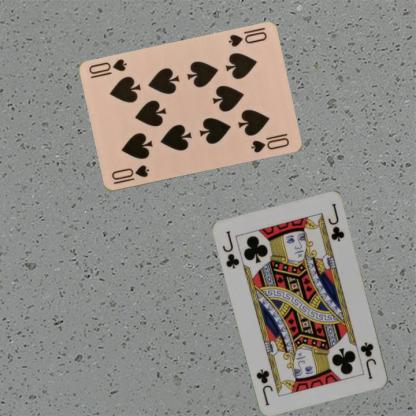10s: (109, 162, 150, 186), (225, 29, 268, 48)
Jc: (220, 228, 241, 271), (358, 340, 378, 382)
